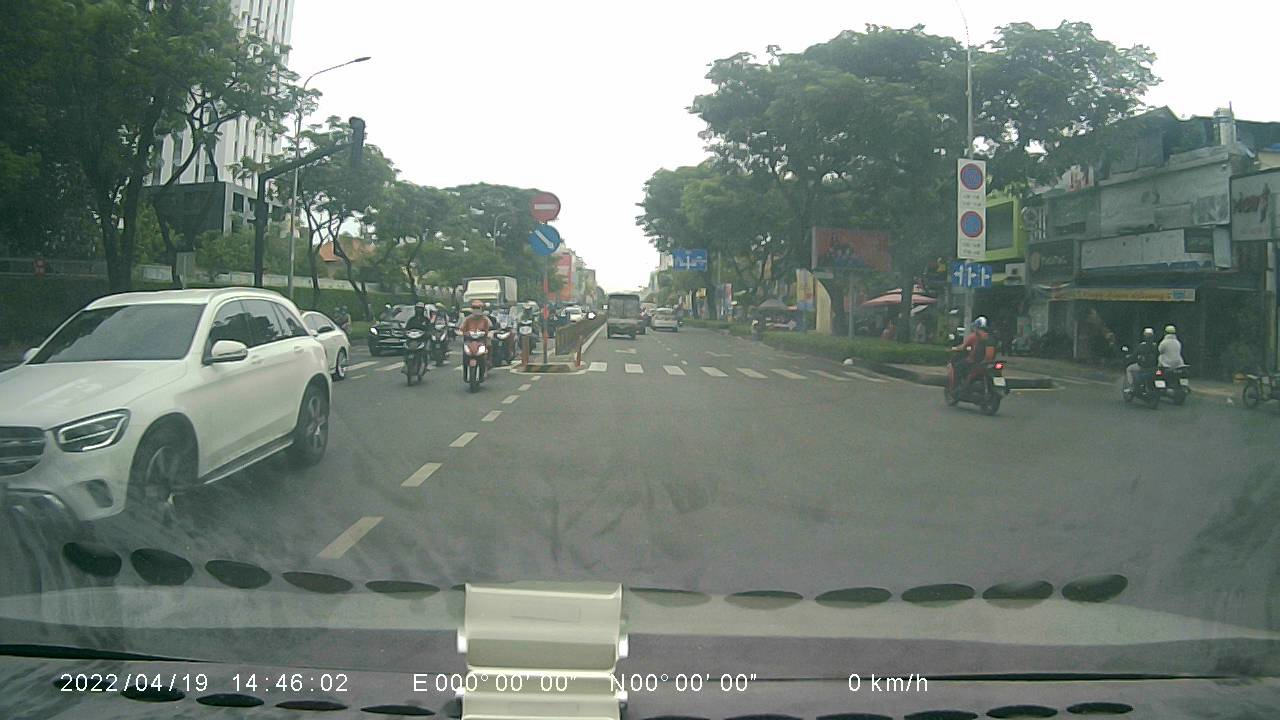Bien khac: (959, 156, 986, 194)
Cam di nguoc chieu: (530, 186, 562, 225)
Cam do xe: (958, 208, 986, 241)
Huong di phai re phai: (529, 223, 560, 255)
